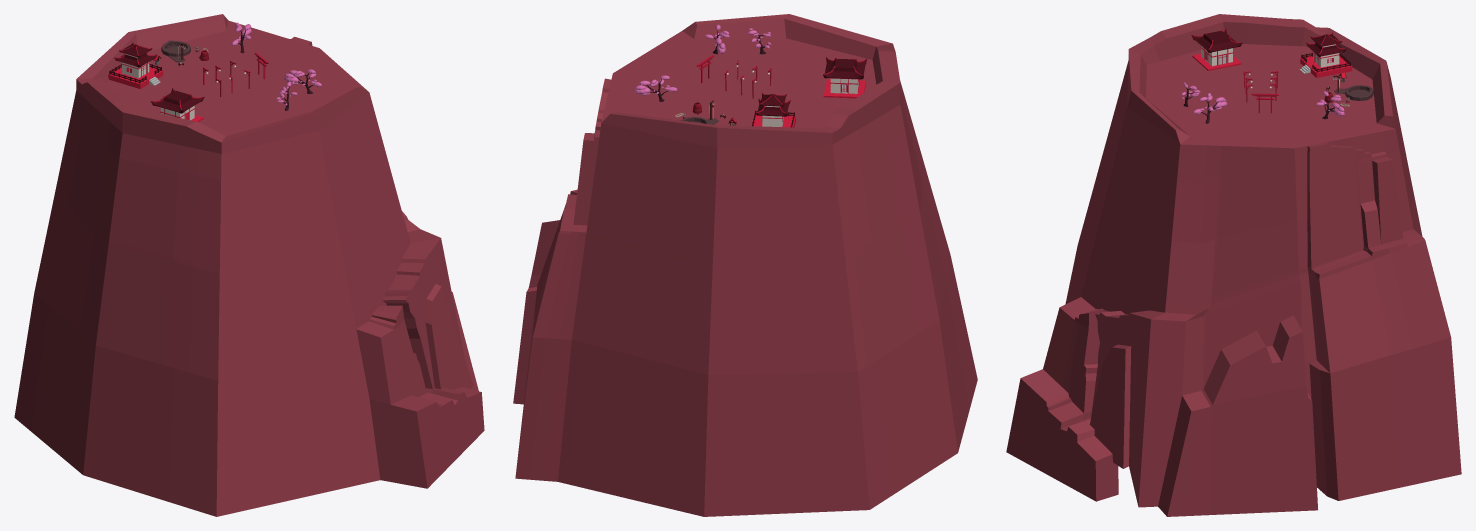
The model's file is Montanha_vermelha.gltf.
3 renders of one model, left to right at view 1: azimuth 30°, elevation 25°; view 2: azimuth 150°, elevation 25°; view 3: azimuth 270°, elevation 25°, orthographic. The views are drawn at different scales.
Visible parts, largest first — view 1: Cubo.003, Casa_Vermelho.001, Casa_Vermelho 02; view 2: Cubo.003, Casa_Vermelho 02, Casa_Vermelho.001; view 3: Cubo.003, Casa_Vermelho.001, Casa_Vermelho 02, Forja.
Boxes of the visible parts, x1,y1,x2,y2 form: Cubo.003: [14, 14, 484, 516]; Casa_Vermelho.001: [108, 42, 163, 88]; Casa_Vermelho 02: [150, 88, 204, 122]; Cubo.003: [513, 14, 977, 516]; Casa_Vermelho 02: [823, 57, 867, 98]; Casa_Vermelho.001: [751, 93, 795, 127]; Cubo.003: [1006, 14, 1461, 516]; Casa_Vermelho.001: [1299, 32, 1352, 77]; Casa_Vermelho 02: [1191, 28, 1242, 70]; Forja: [1333, 75, 1373, 106].
Size of the model in its own units: 25 by 22.57 by 26.29.
